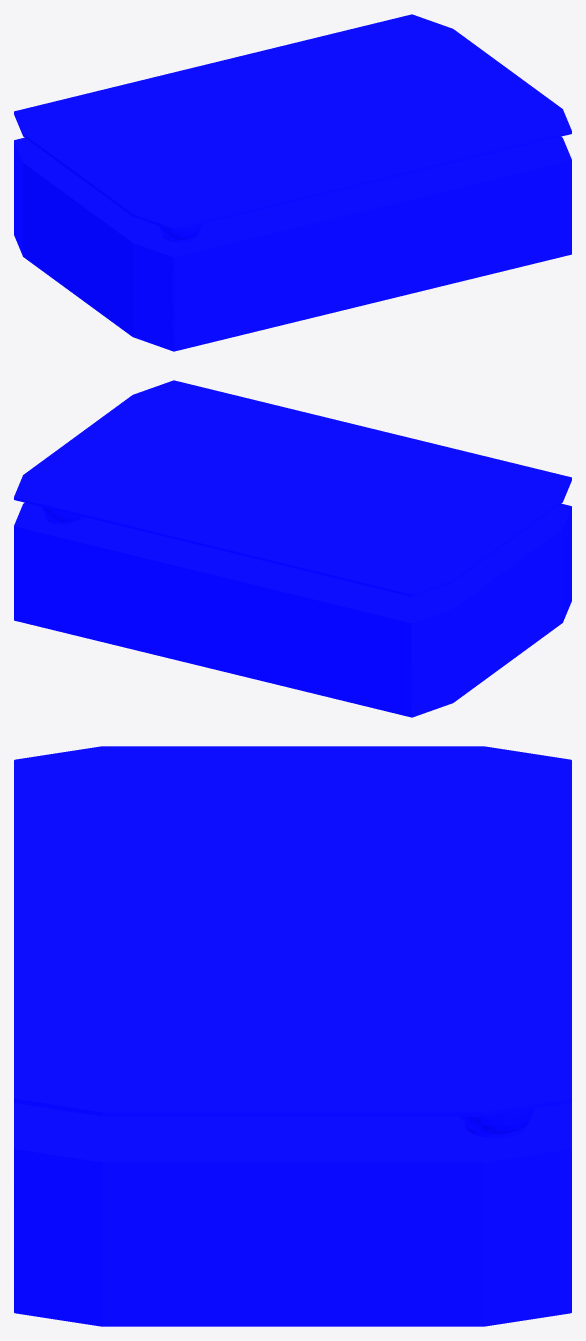
Rendered from amr_chassis.dae.
The picture shows the model from 3 angles, top to bottom: view 1: azimuth 30°, elevation 25°; view 2: azimuth 150°, elevation 25°; view 3: azimuth 270°, elevation 25°; orthographic projection. The views are drawn at different scales.
Visible parts, largest first — view 1: BODY SIM v1STL; view 2: BODY SIM v1STL; view 3: BODY SIM v1STL.
Part boxes in pixels (bbox=[...]): BODY SIM v1STL: bbox=[14, 14, 571, 351]; BODY SIM v1STL: bbox=[14, 380, 571, 717]; BODY SIM v1STL: bbox=[14, 746, 571, 1326].
Size of the model in its own units: 0.9 by 0.58 by 0.246.
